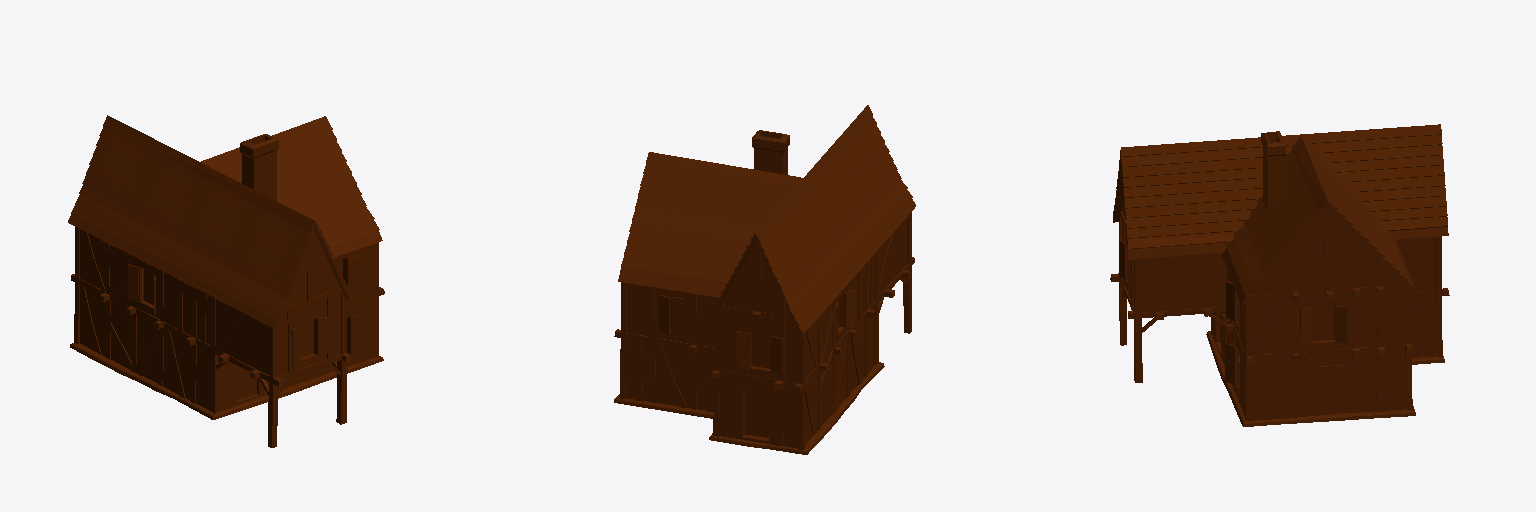
Rendered from house.obj.
3 views of the same model, side by side, from view 1: azimuth 30°, elevation 25°; view 2: azimuth 150°, elevation 25°; view 3: azimuth 270°, elevation 25° (orthographic).
Visible parts, largest first — view 1: Mesh_Box291; view 2: Mesh_Box291; view 3: Mesh_Box291.
Boxes of the visible parts, x1,y1,x2,y2 form: Mesh_Box291: [68, 115, 384, 447]; Mesh_Box291: [614, 105, 915, 454]; Mesh_Box291: [1110, 124, 1449, 426].
Bounding box in the file's own units: 8.11 × 8.16 × 10.59.